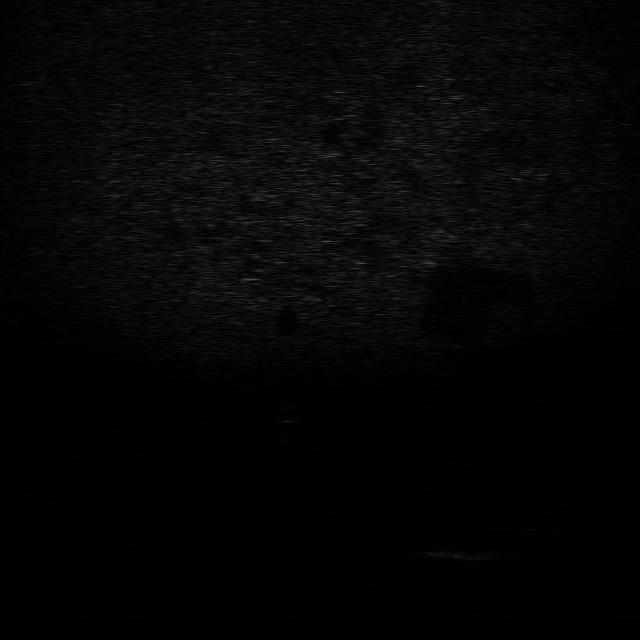ball: (268, 402, 308, 423)
metal bucket: (423, 546, 502, 568)
tyre: (482, 512, 560, 542)
